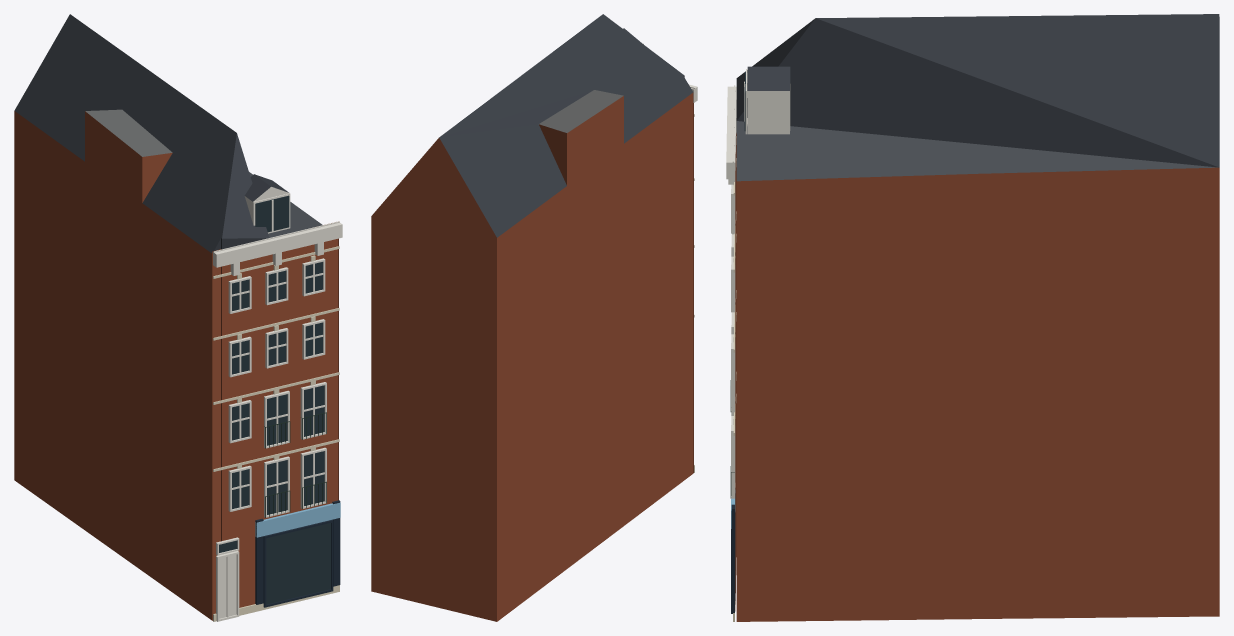
Rendered from recipe-bilder-153622.glb.
The picture shows the model from 3 angles, left to right: view 1: azimuth 30°, elevation 25°; view 2: azimuth 150°, elevation 25°; view 3: azimuth 270°, elevation 25°; orthographic projection. The views are drawn at different scales.
Parts seen in each view (by area): view 1: bilder-153622; view 2: bilder-153622; view 3: bilder-153622.
Boxes of the visible parts, x1,y1,x2,y2 form: bilder-153622: (14,14,342,621); bilder-153622: (371,14,697,621); bilder-153622: (726,14,1219,621).
Bounding box in the file's own units: 5.68 × 18.88 × 15.
